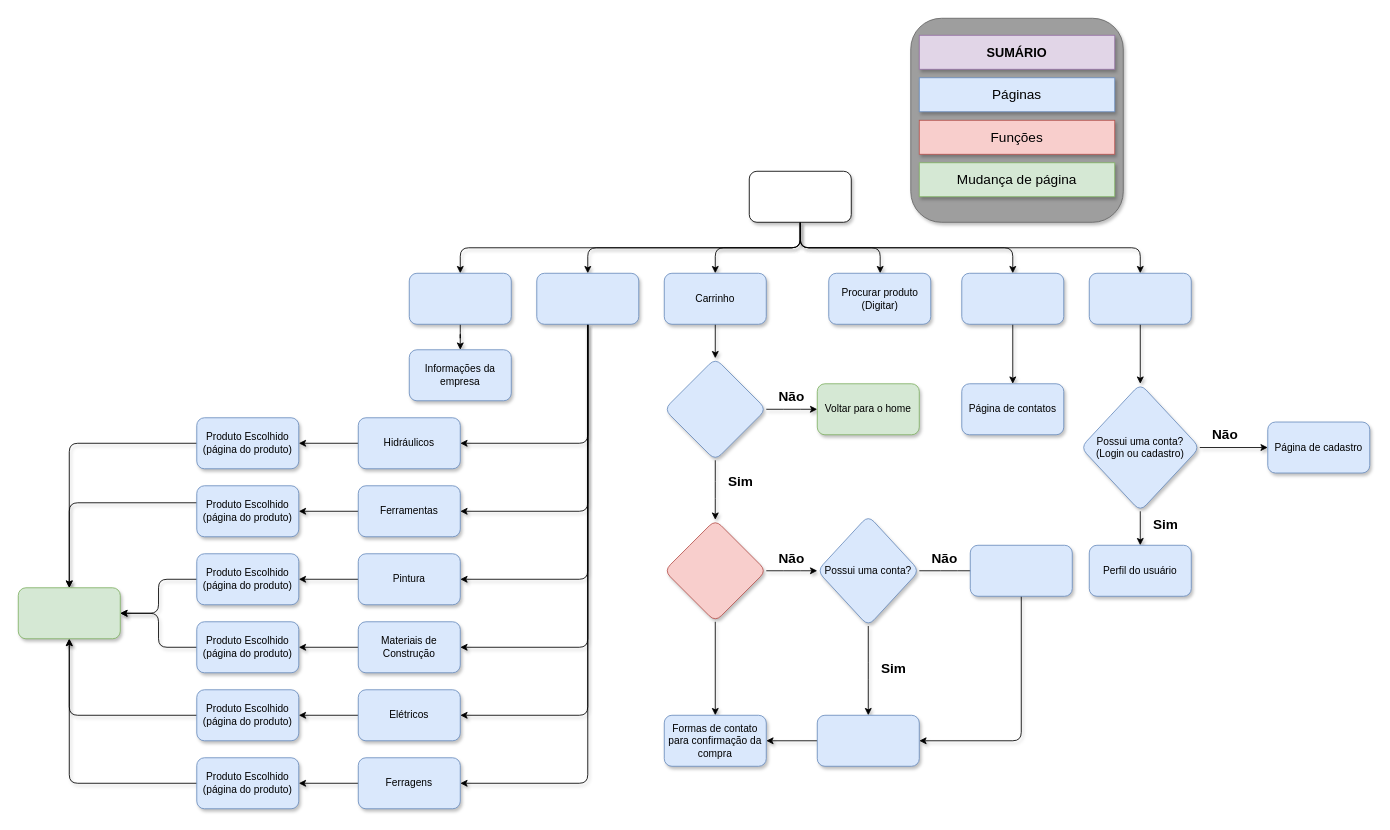
This 1390x830 diagram has some shape labels left out. The centre of each missing label's shape, as x and y in pixels:
Central de Atendimento: (x=1013, y=299)
Deseja finalizar a compra?: (x=715, y=410)
Direciona pro carrinho: (x=69, y=614)
Está logado?: (x=715, y=572)
Fazer login: (x=868, y=741)
HOME: (x=800, y=197)
Minha conta: (x=1140, y=299)
Produtos: (x=588, y=299)
Página de cadastro rápido: (x=1021, y=571)
Quem somos: (x=460, y=299)
